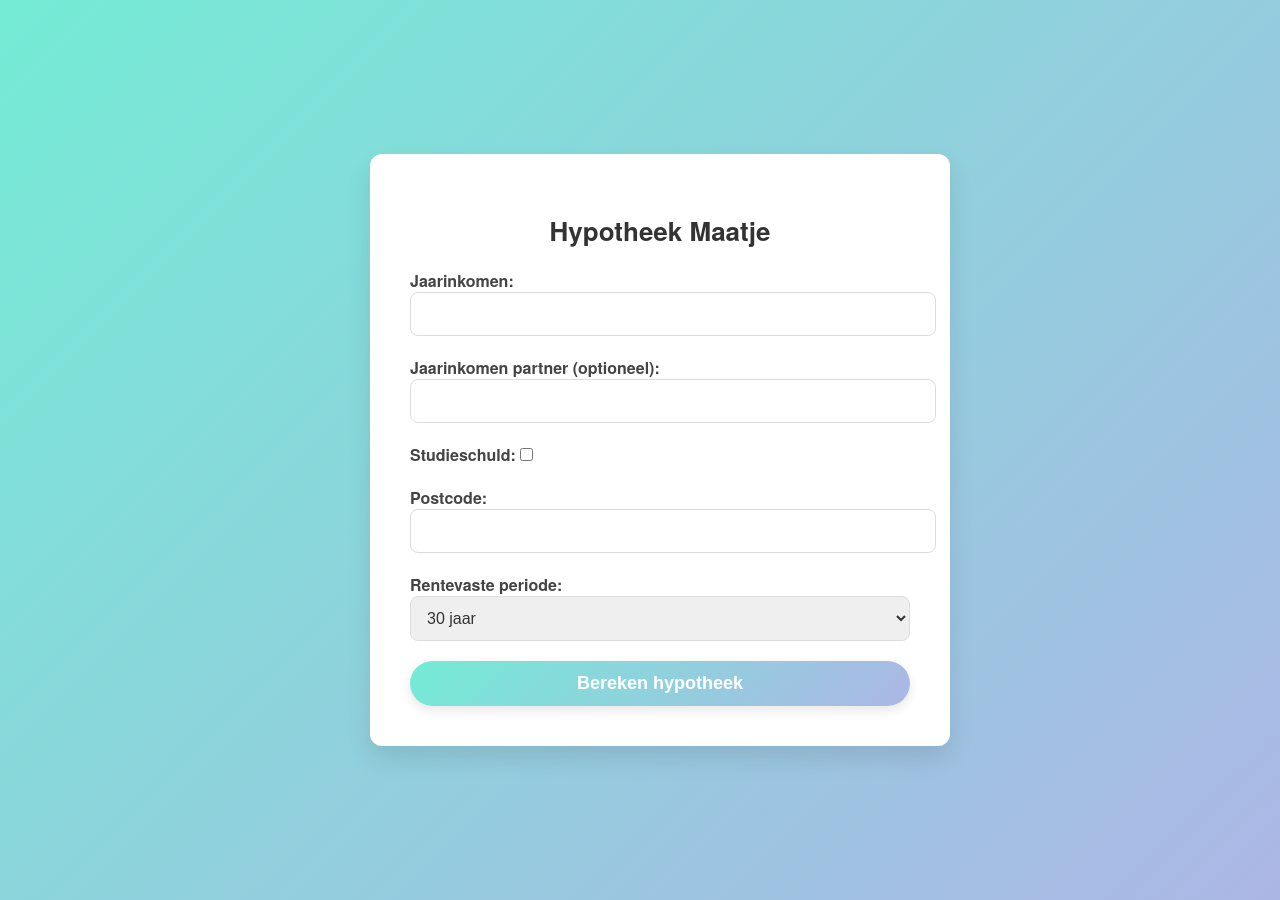
Hypotheek Maatje › berekent hypotheek correct bij geldige invoer
The width and height of the screenshot is (1280, 900).
In the number field with test id "jaarinkomen": (673, 314) top-left (410, 292), bottom-right (936, 336), type "50000"
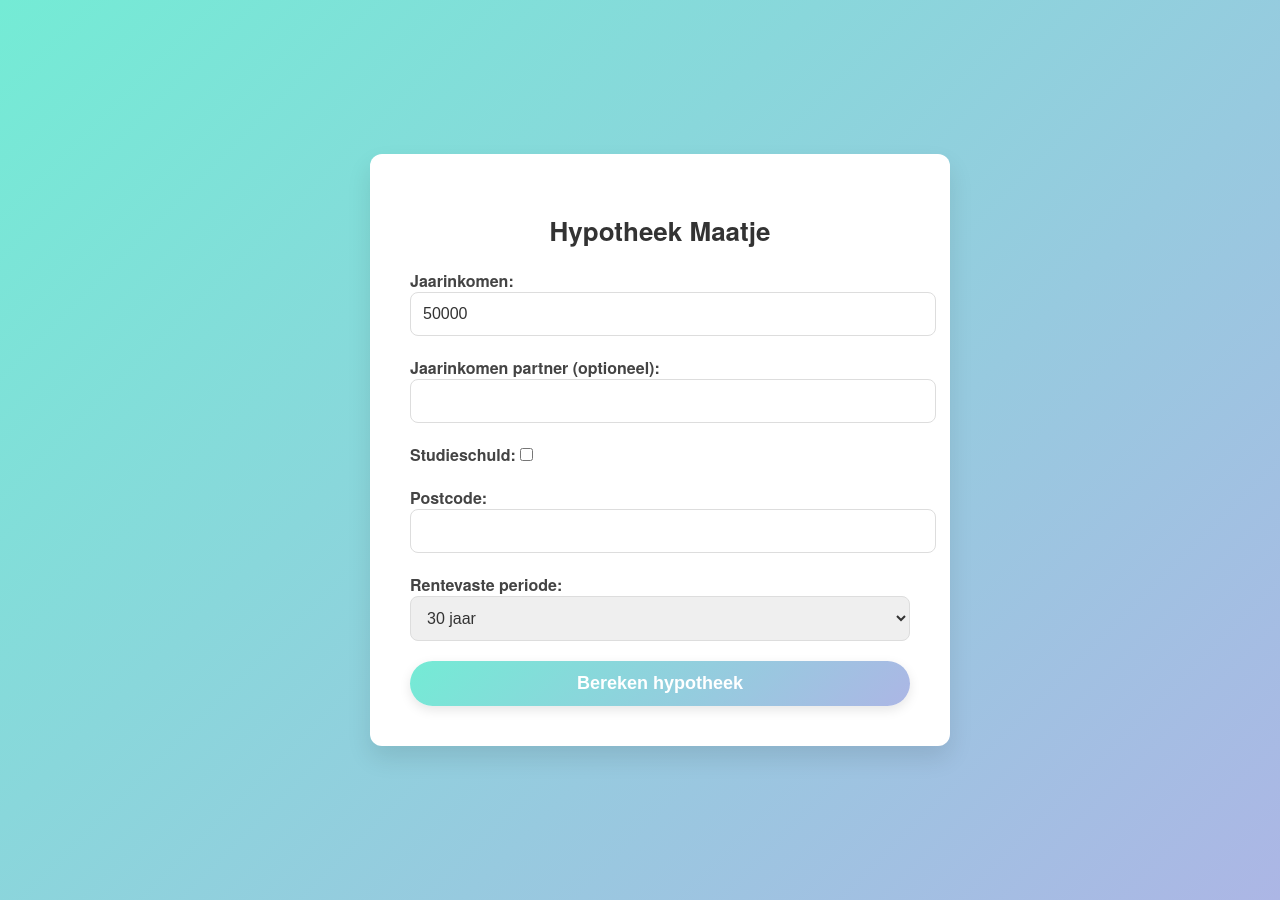
In the number field labelled "Jaarinkomen partner (optioneel):": (673, 401) top-left (410, 379), bottom-right (936, 423), type "30000"
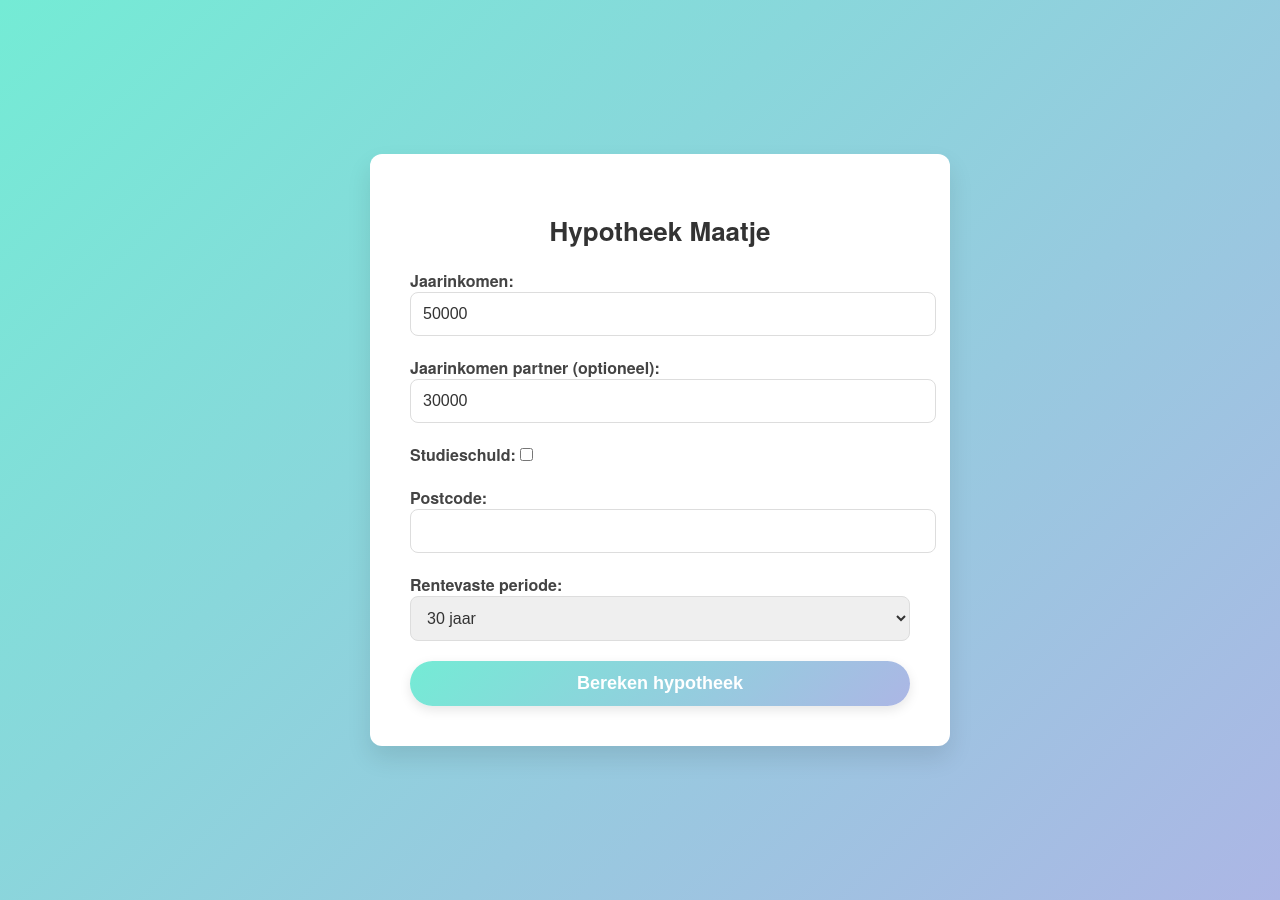
In the field labelled "Postcode:": (673, 531) top-left (410, 509), bottom-right (936, 553), type "1234AB"
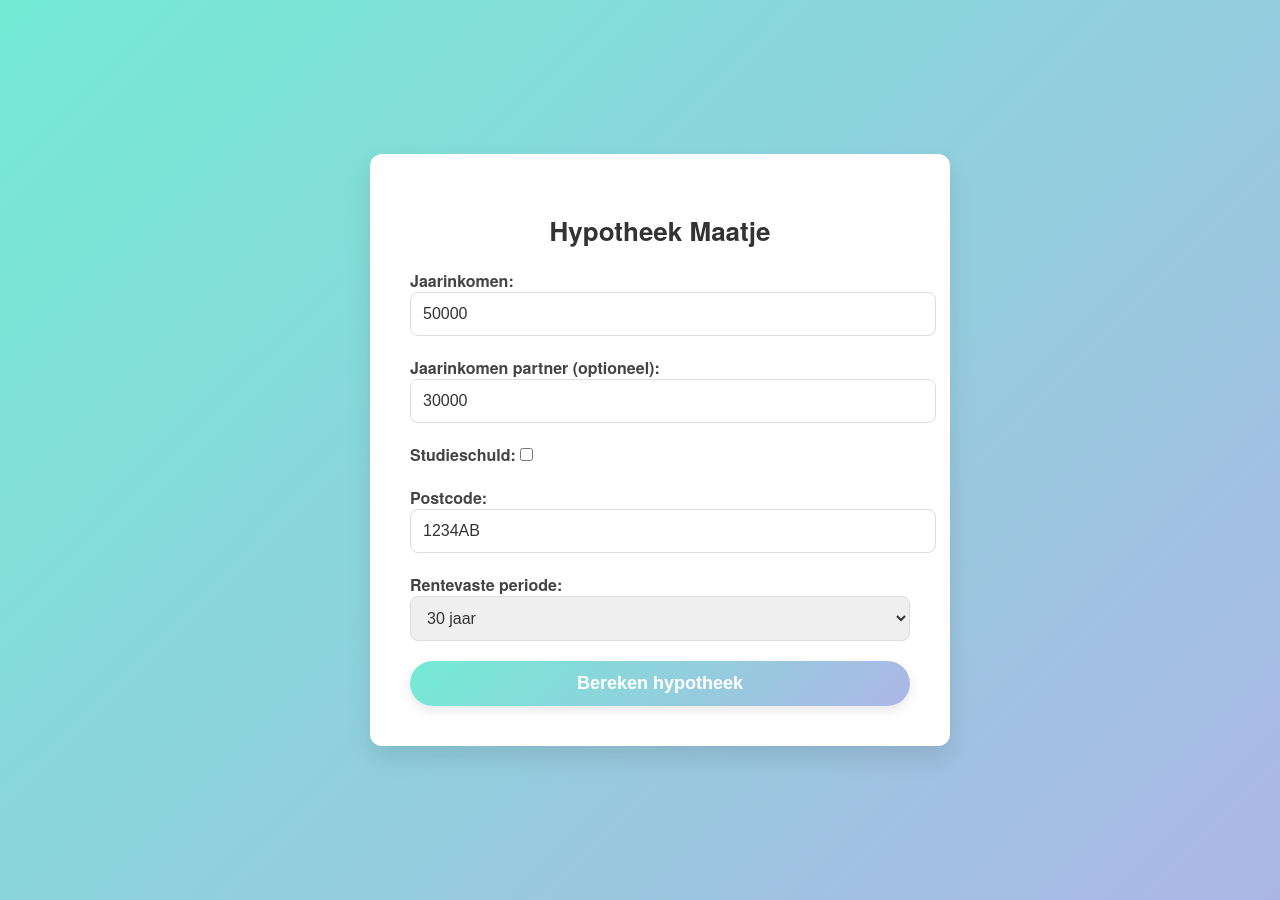
Select "30 jaar" in the dropdown labelled "Rentevaste periode:": (660, 618) top-left (410, 596), bottom-right (910, 641)
Click the button "Bereken hypotheek": (660, 683) top-left (410, 661), bottom-right (910, 706)
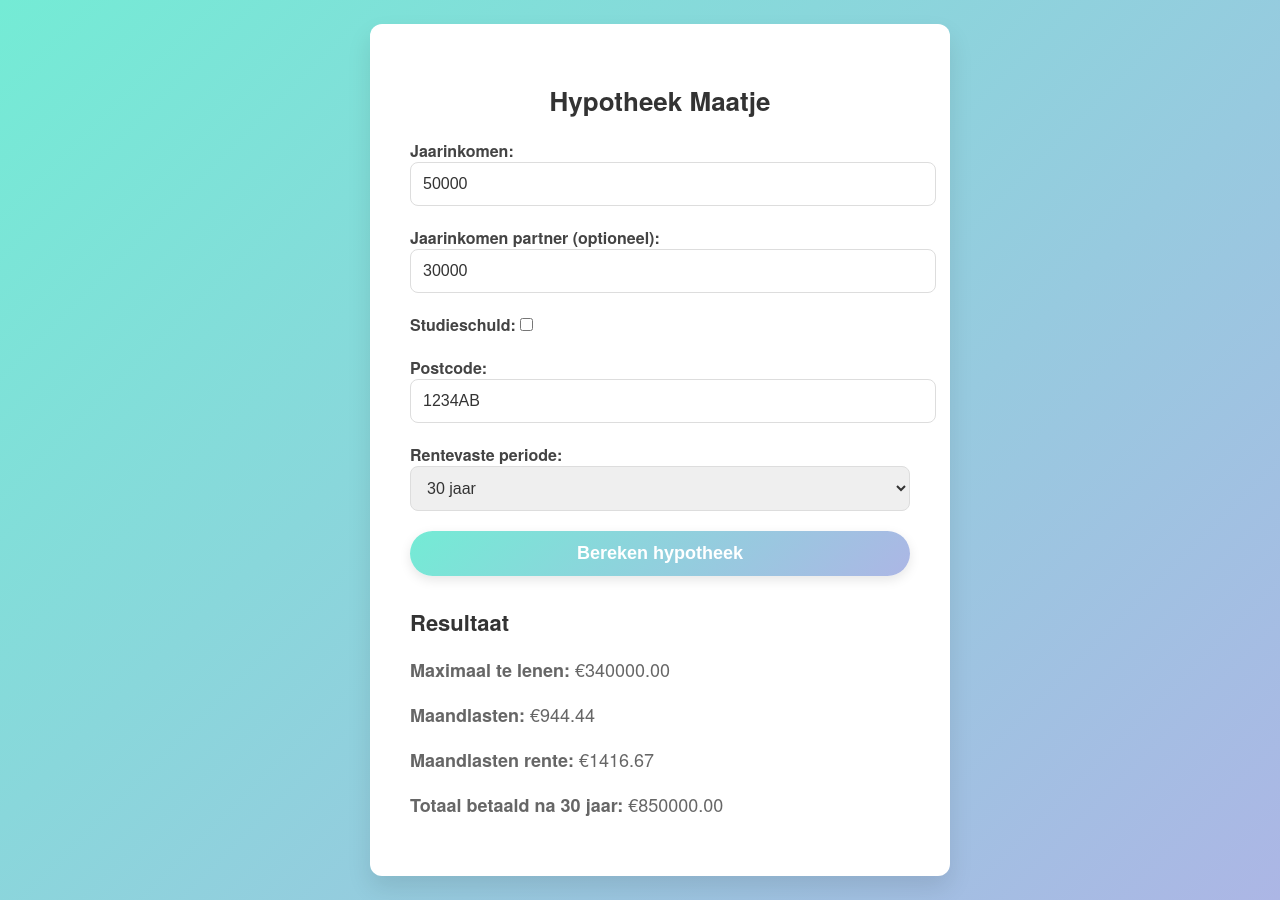
Expected: the text "Maximaal te lenen:" is shown, top-left (410, 657), bottom-right (570, 683)
